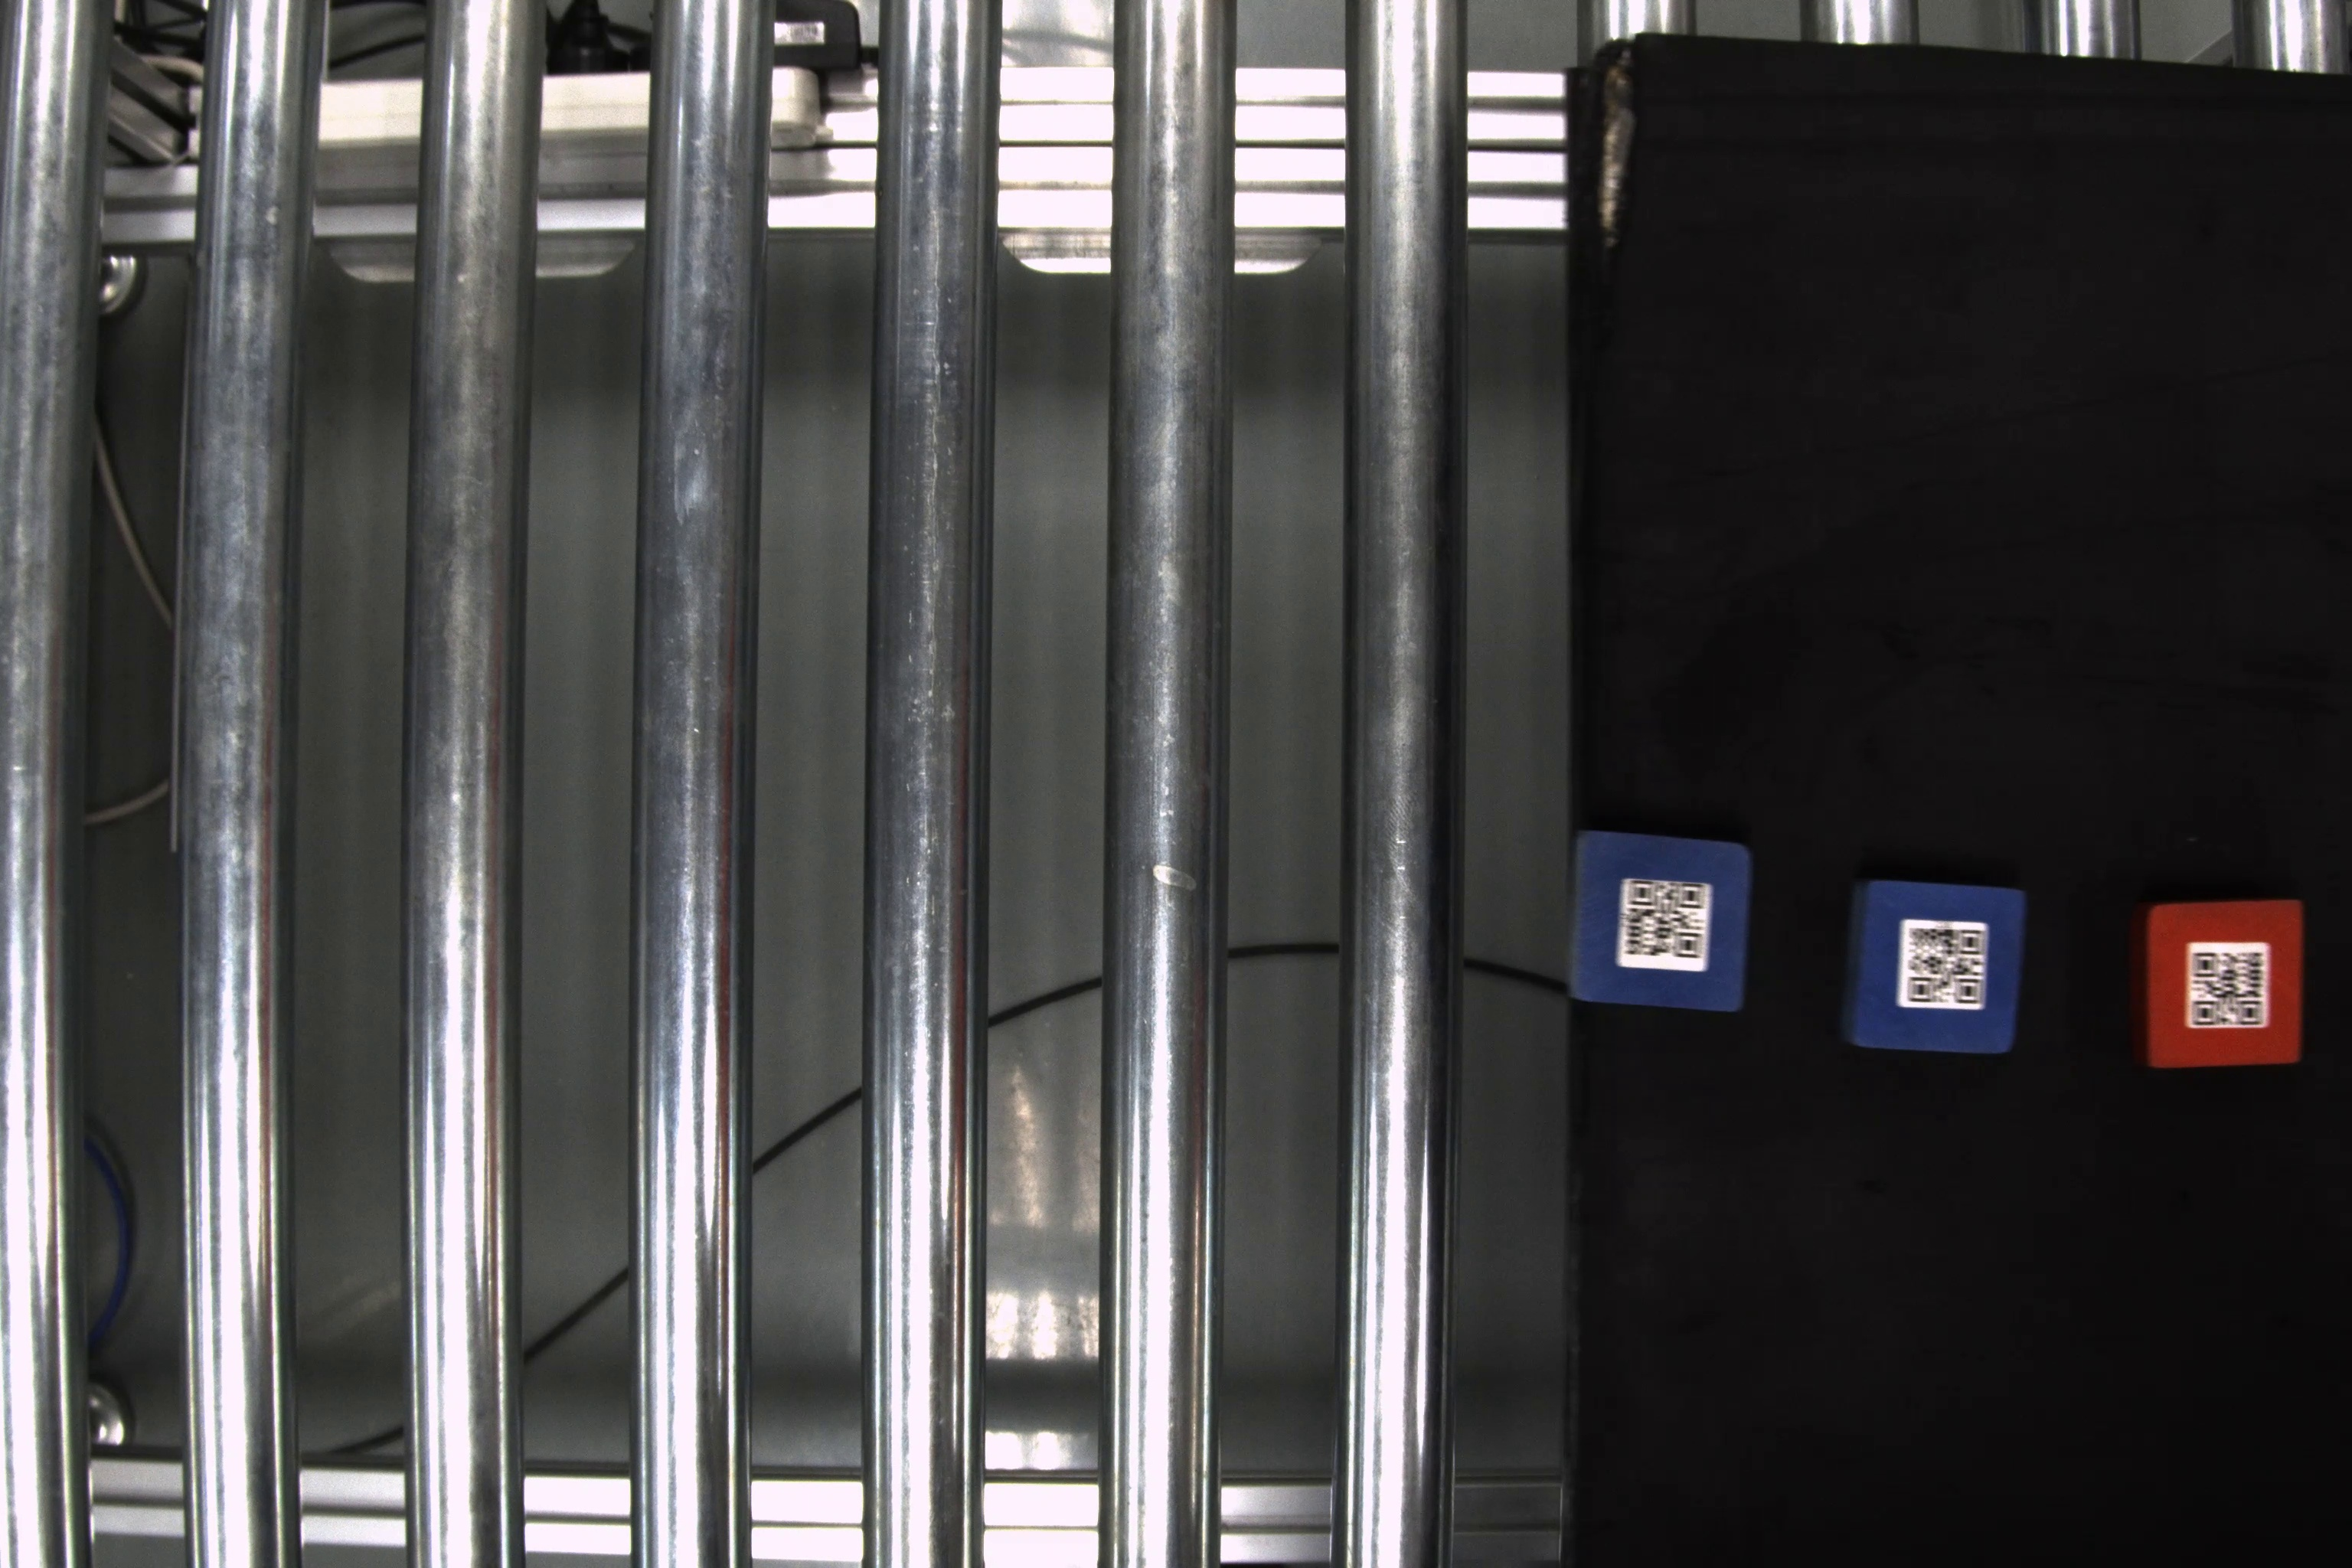wood: (1568, 822, 1757, 1015), (1839, 873, 2025, 1053), (2131, 898, 2303, 1078)
